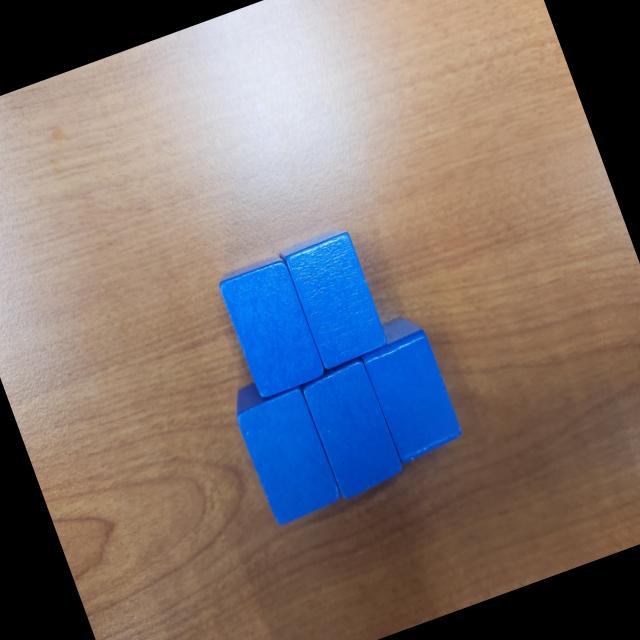blue: (226, 366, 346, 532), (352, 308, 468, 467), (276, 224, 392, 374), (213, 253, 328, 403), (296, 356, 408, 502)
